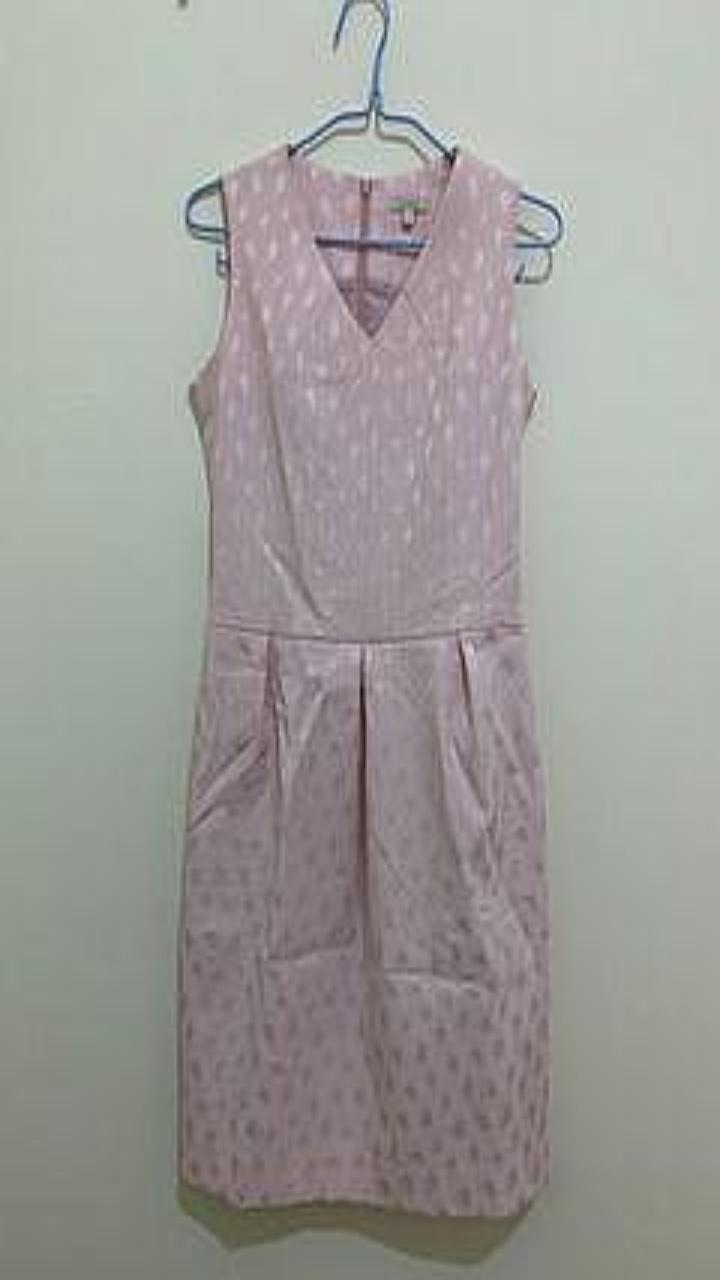Dresses: (179, 143, 548, 1216)
